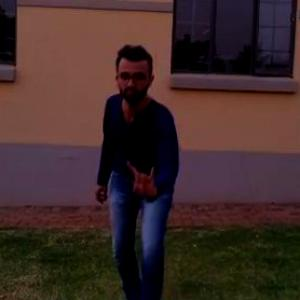takeoff-hand: (121, 155, 164, 204)
